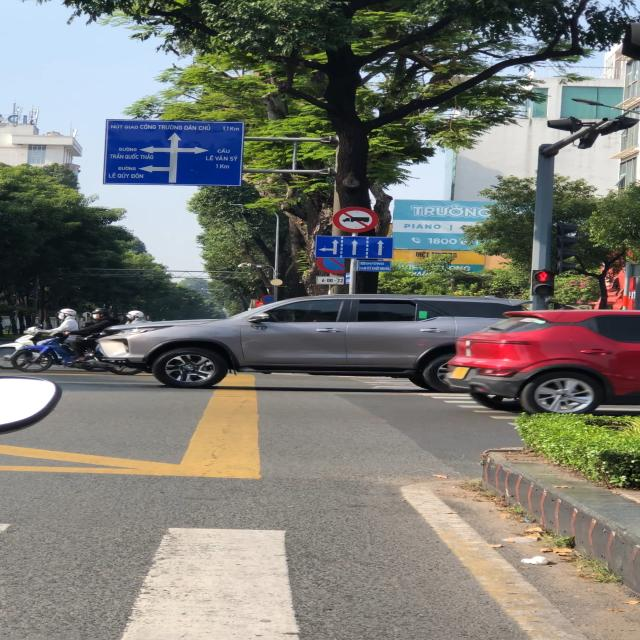Bien bao cam xe so-mi ro-mooc: (329, 206, 382, 234)
